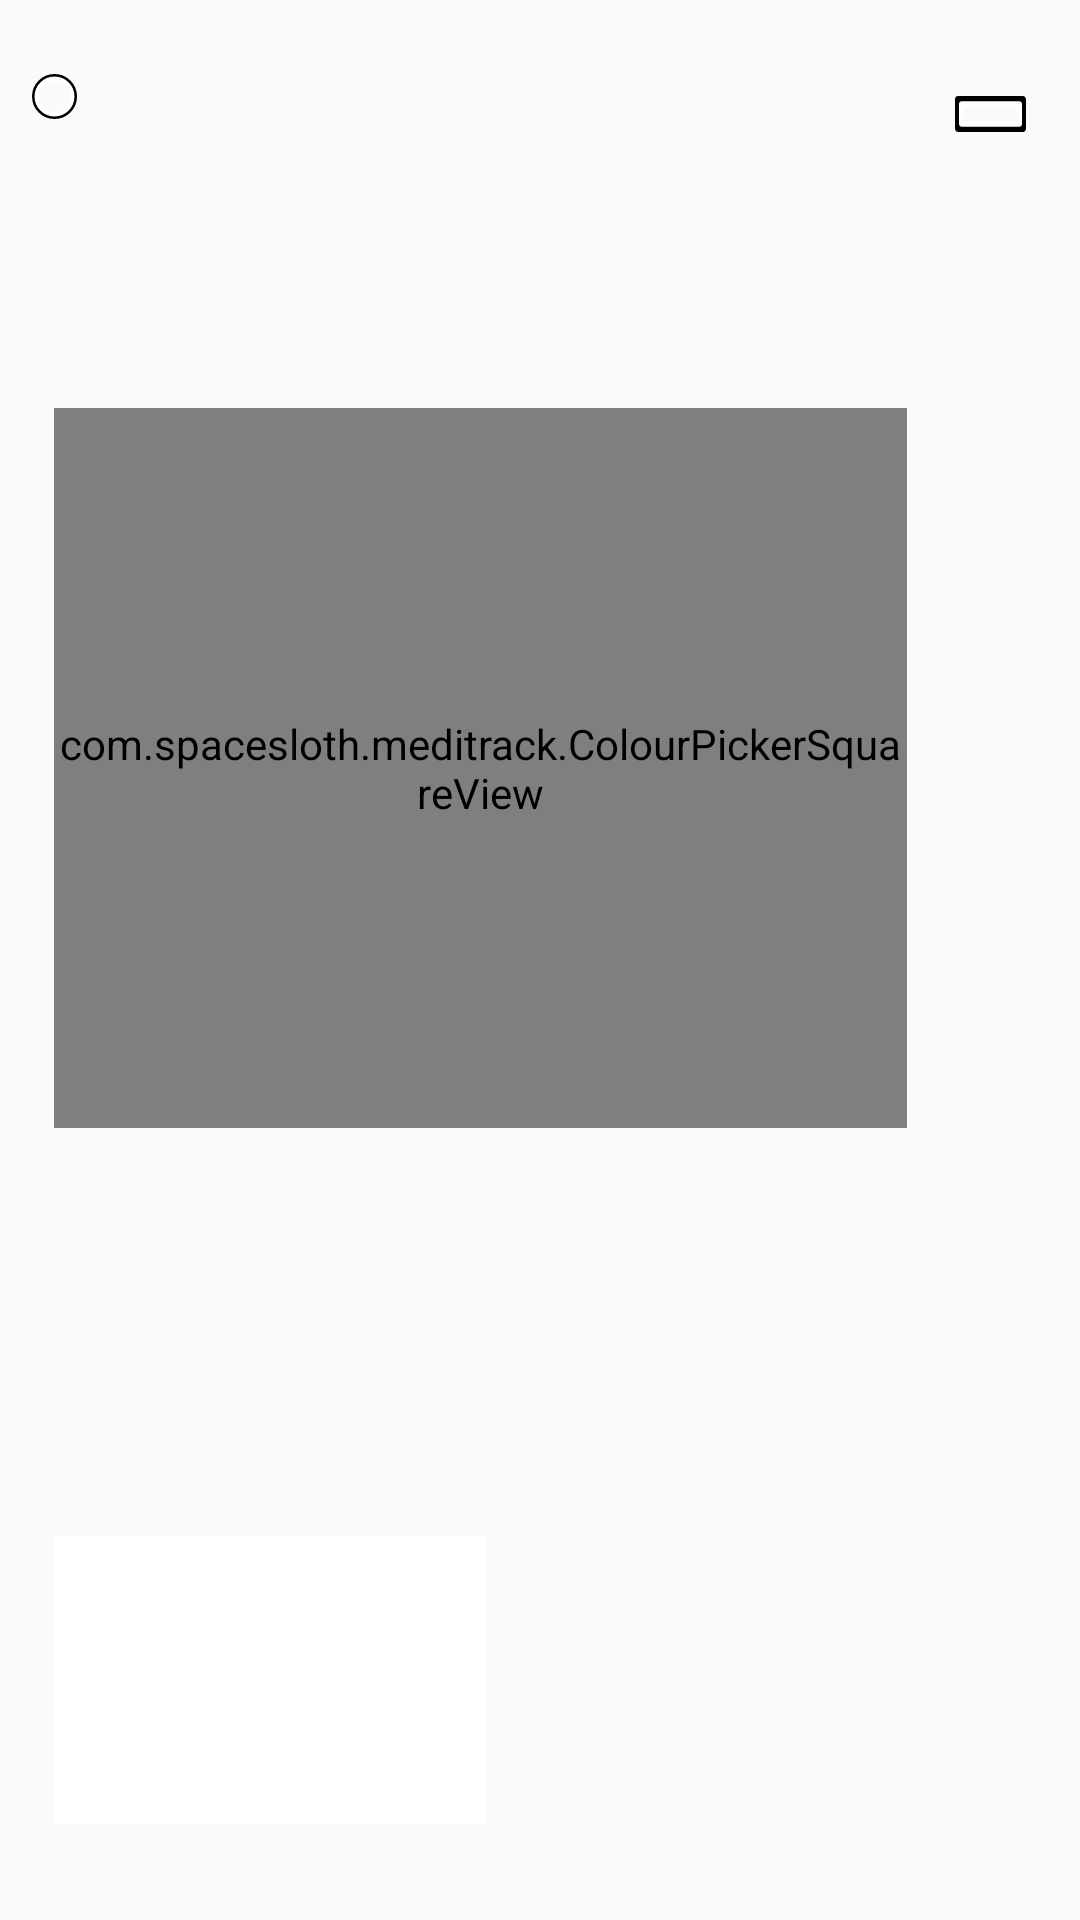

Screen size 1080 x 1920. Icon name, then its center in pixels as (x,y):
hue picker cursor: (990,114)
picker cursor: (54,96)
